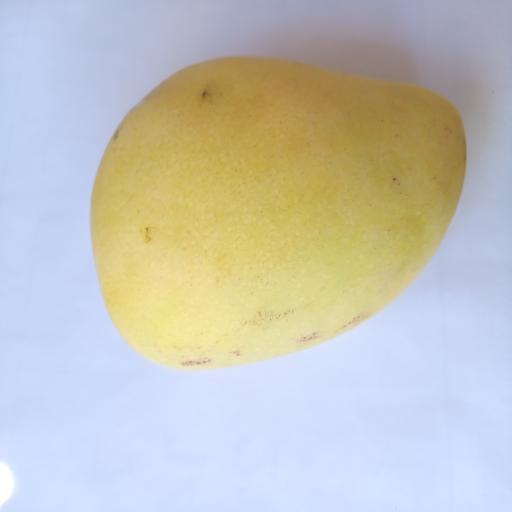mango-ripe: (76, 42, 485, 396)
